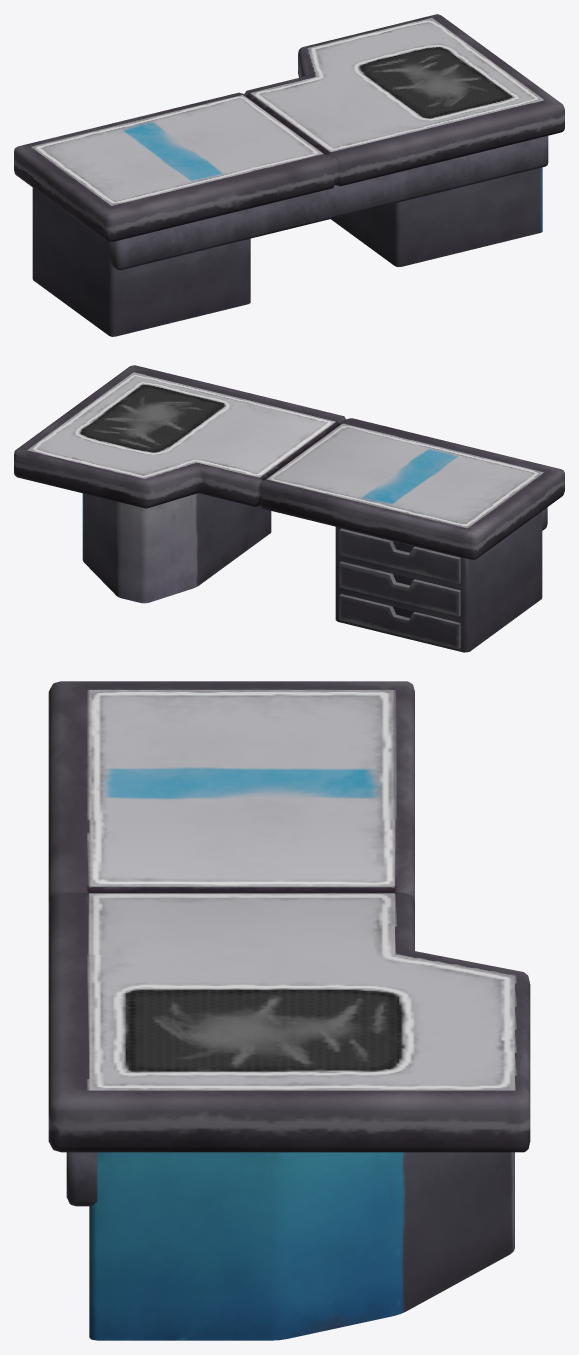
The model's file is workdesk_var2.fbx.
3 renders of one model, top to bottom at view 1: azimuth 30°, elevation 25°; view 2: azimuth 150°, elevation 25°; view 3: azimuth 270°, elevation 25°, orthographic. The views are drawn at different scales.
Parts seen in each view (by area): view 1: WorkDesk2Top, WorkDesk2, WorkDesk2Apron; view 2: WorkDesk2Top, WorkDesk2, Shelf.010, Shelf.009, Shelf.011; view 3: WorkDesk2Top, WorkDesk2, WorkDesk2Apron.
Boxes of the visible parts, x1,y1,x2,y2 form: WorkDesk2Top: (14, 14, 564, 241); WorkDesk2: (32, 167, 542, 336); WorkDesk2Apron: (109, 136, 548, 270); WorkDesk2Top: (14, 365, 564, 559); WorkDesk2: (82, 493, 542, 652); Shelf.010: (339, 561, 460, 616); Shelf.009: (339, 528, 460, 583); Shelf.011: (339, 594, 460, 648); WorkDesk2Top: (48, 681, 530, 1152); WorkDesk2: (89, 1152, 514, 1340); WorkDesk2Apron: (66, 1152, 97, 1206).
Size of the model in its own units: 4.19 by 2.01 by 1.15.
Materials: 1 (1 with a texture image).
